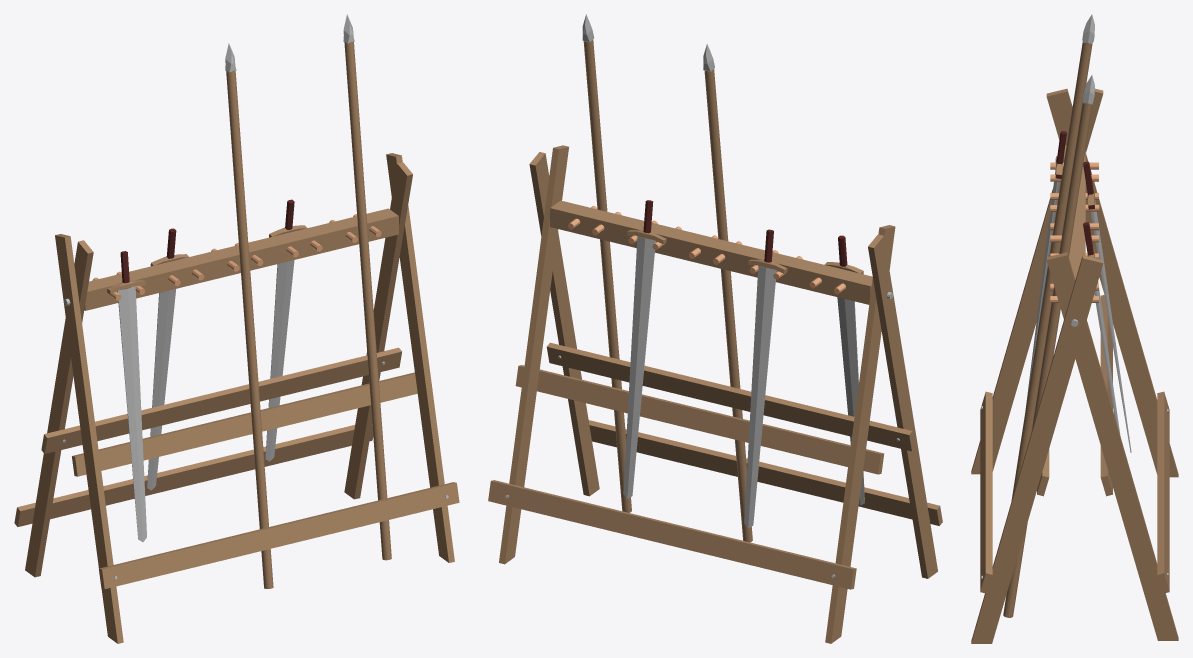
Rendered from Weapon Rack.fbx.
3 renders of one model, left to right at view 1: azimuth 30°, elevation 25°; view 2: azimuth 150°, elevation 25°; view 3: azimuth 270°, elevation 25°, orthographic. The views are drawn at different scales.
Visible parts, largest first — view 1: Rack, Spear(1), Spear(0), Sword(0), Sword(1), Sword(2); view 2: Rack, Sword(1), Sword(2), Spear(1), Spear(0), Sword(0); view 3: Rack, Spear(0), Spear(1), Sword(1), Sword(0), Sword(2).
Part boxes in pixels (x1,y1,x2,y2): Rack: (14, 153, 459, 643); Spear(1): (343, 14, 391, 560); Spear(0): (225, 43, 273, 588); Sword(0): (107, 251, 146, 541); Sword(1): (147, 228, 188, 490); Sword(2): (265, 199, 307, 461); Rack: (488, 145, 942, 643); Sword(1): (744, 229, 787, 528); Sword(2): (623, 200, 666, 498); Spear(1): (582, 14, 631, 512); Spear(0): (703, 44, 752, 542); Sword(0): (824, 235, 864, 505); Rack: (971, 88, 1178, 643); Spear(0): (1011, 14, 1094, 500); Spear(1): (1003, 75, 1094, 617); Sword(1): (1083, 161, 1131, 452); Sword(0): (1025, 131, 1066, 410); Sword(2): (1083, 222, 1120, 434).
Bounding box in the file's own units: 600 × 837 × 289.
